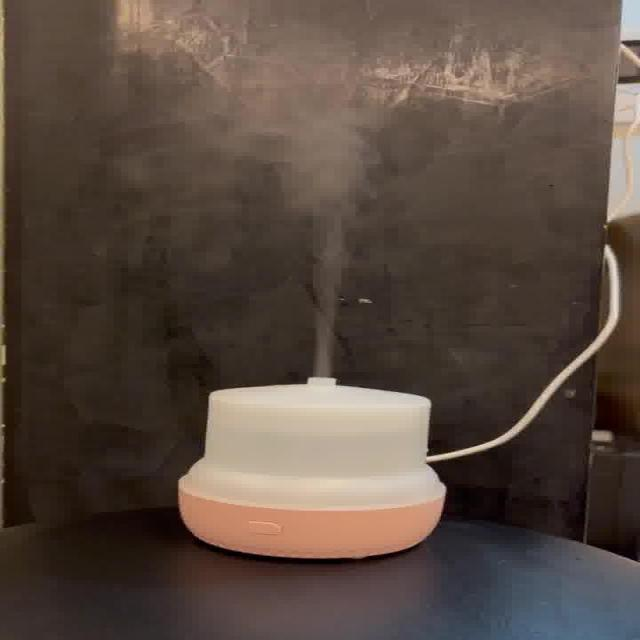fire: (232, 92, 396, 376)
